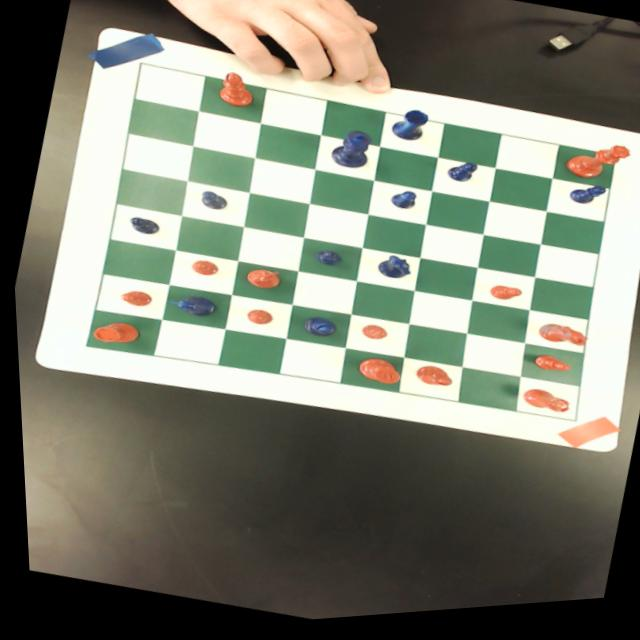B: (294, 315, 334, 347)
K: (321, 130, 372, 179)
N: (162, 291, 214, 325), (369, 255, 412, 290)
P: (563, 187, 604, 219), (442, 163, 477, 192), (384, 191, 415, 219), (194, 190, 227, 216), (124, 215, 158, 239), (310, 250, 339, 274)
R: (384, 109, 429, 151)
b: (211, 71, 257, 115), (407, 367, 450, 397)
k: (349, 358, 398, 394)
n: (532, 326, 586, 360), (239, 267, 280, 298)
p: (526, 358, 567, 384), (114, 287, 152, 313), (482, 289, 519, 313), (185, 259, 216, 282), (353, 326, 385, 348), (240, 310, 272, 331)
q: (559, 141, 630, 197)
r: (84, 316, 139, 352), (516, 391, 568, 425)
